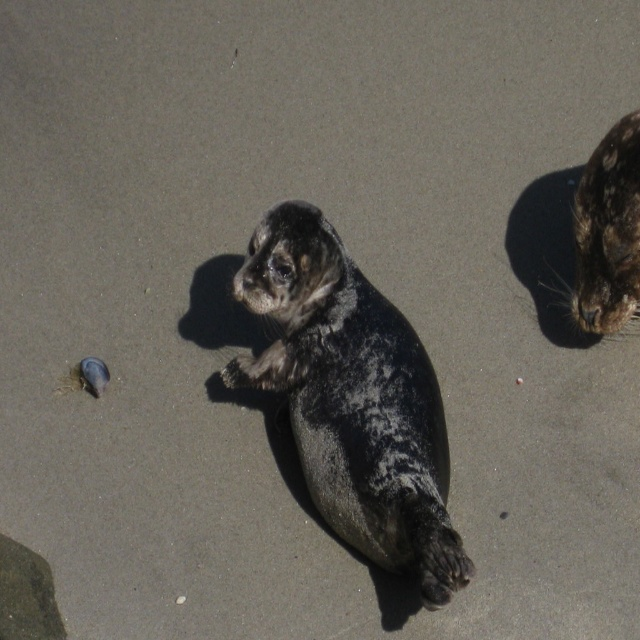Harbor seal: (219, 198, 480, 618), (538, 110, 640, 341)
